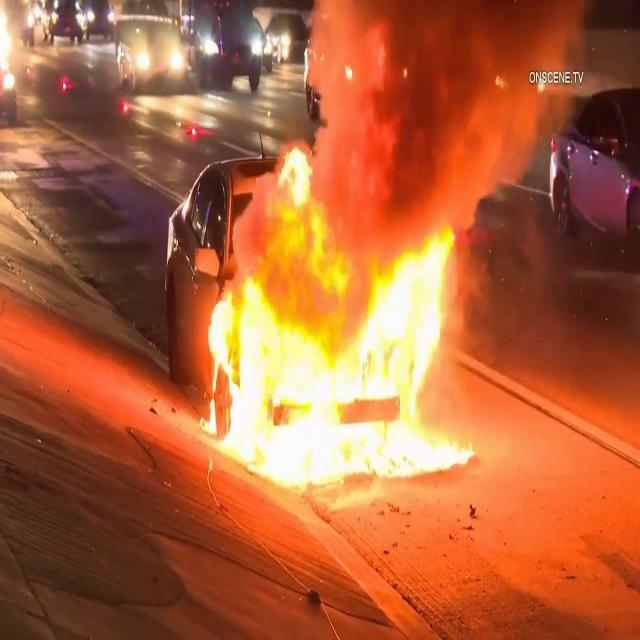Fire: (200, 148, 480, 492)
Smoke: (292, 1, 597, 222)
